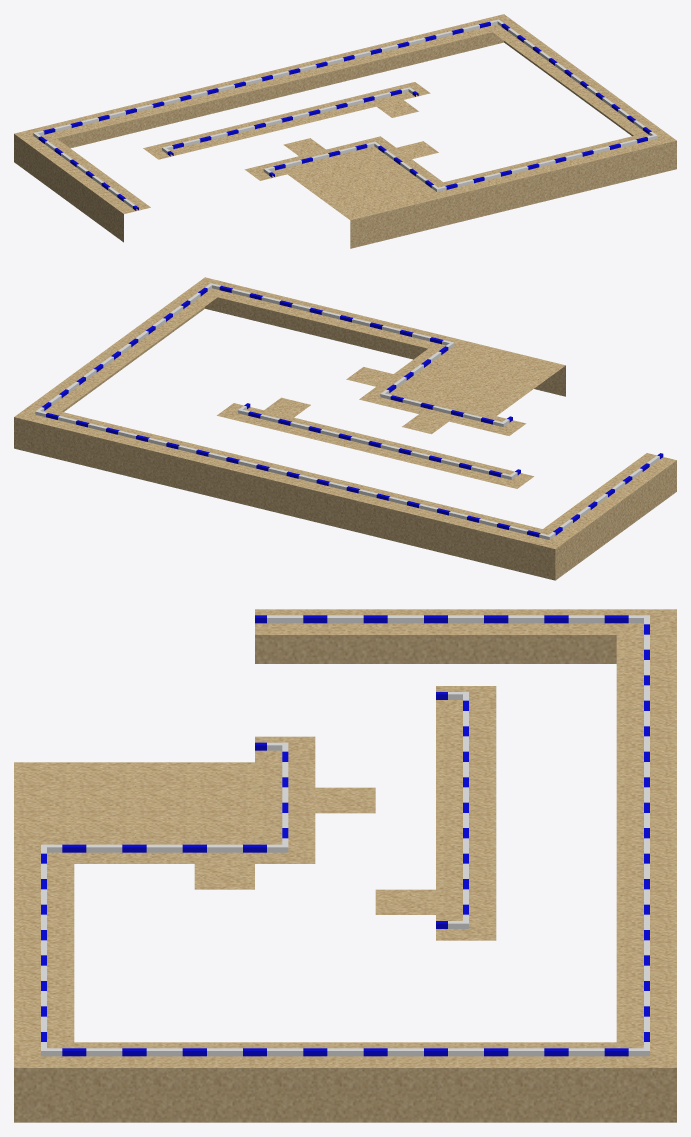
Rendered from circuit_2_D.fbx.
3 views of the same model, one above another, from view 1: azimuth 30°, elevation 25°; view 2: azimuth 150°, elevation 25°; view 3: azimuth 270°, elevation 25° (orthographic). The views are drawn at different scales.
Visible parts, largest first — view 1: polySurface1953; view 2: polySurface1953; view 3: polySurface1953.
Boxes of the visible parts, <box> form: polySurface1953: <box>14,14,676,248</box>; polySurface1953: <box>14,277,676,580</box>; polySurface1953: <box>14,609,676,1122</box>.
Bounding box in the file's own units: 900 × 55 × 550.
3 materials, 1 textured.
